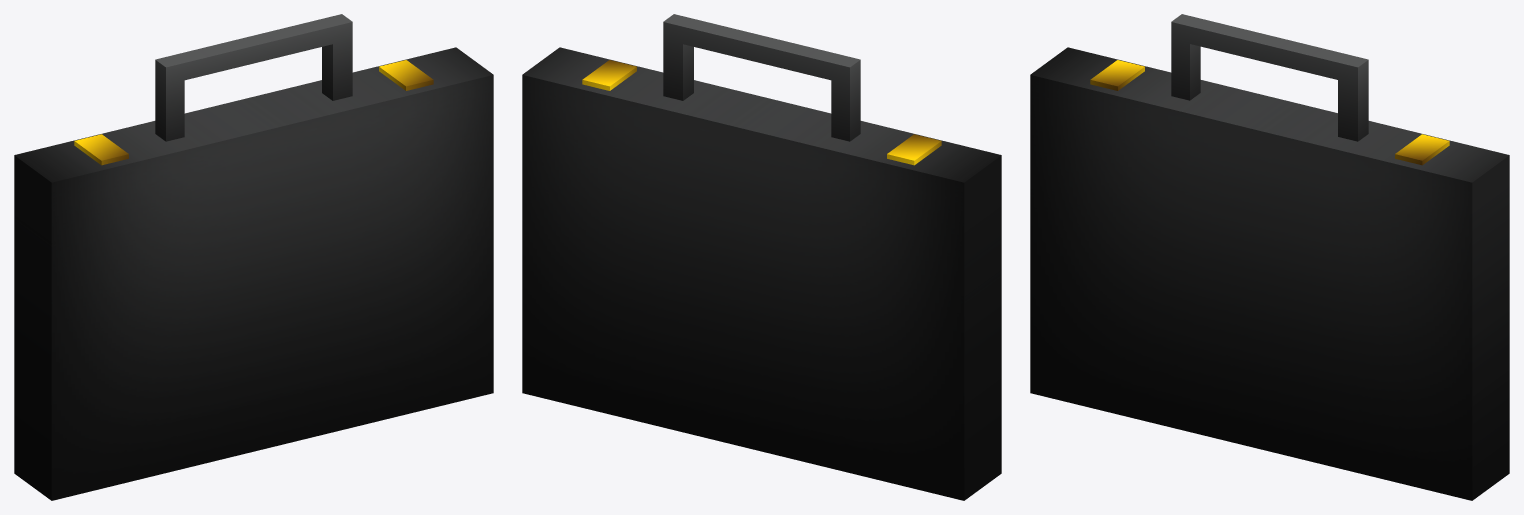
Rendered from Briefcase.fbx.
3 renders of one model, left to right at view 1: azimuth 30°, elevation 25°; view 2: azimuth 150°, elevation 25°; view 3: azimuth 330°, elevation 25°, orthographic.
Parts seen in each view (by area): view 1: Briefcase; view 2: Briefcase; view 3: Briefcase.
Part boxes in pixels (box(x1,y1,x2,y2)): Briefcase: box(14, 14, 493, 500); Briefcase: box(522, 14, 1001, 500); Briefcase: box(1030, 14, 1509, 500).
Size of the model in its own units: 38.06 by 32.3 by 5.61.
